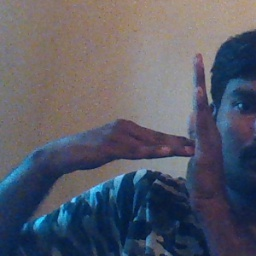Z: (125, 52, 230, 202)
